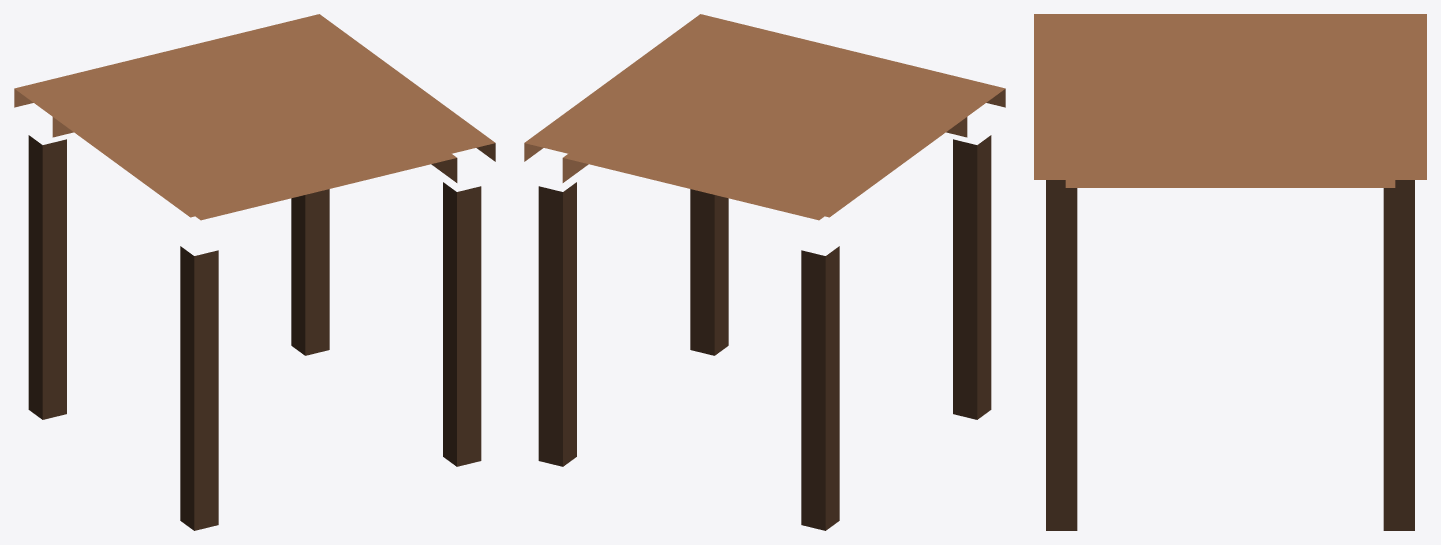
File: Table-teak.glb
3 views of the same model, side by side, from view 1: azimuth 30°, elevation 25°; view 2: azimuth 150°, elevation 25°; view 3: azimuth 270°, elevation 25° (orthographic). The views are drawn at different scales.
Visible parts, largest first — view 1: Table; view 2: Table; view 3: Table.
Part boxes in pixels (x1,y1,x2,y2): Table: (14,14,495,530); Table: (524,14,1005,530); Table: (1034,14,1426,530).
Bounding box in the file's own units: 1 × 1 × 1.
